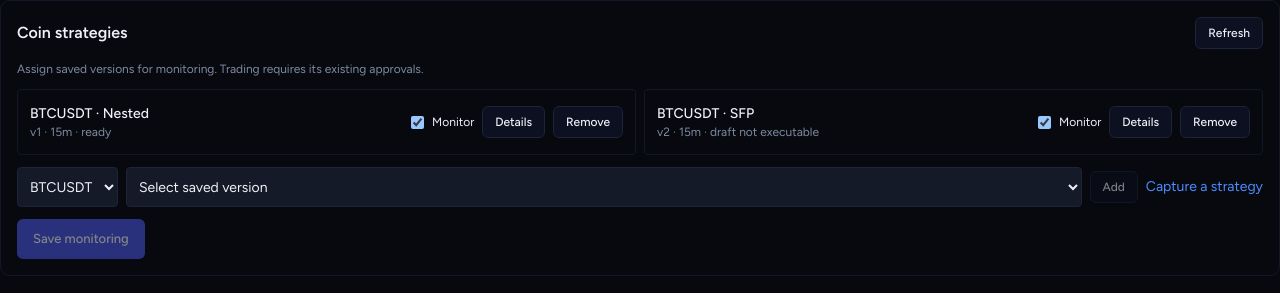
Test: independently toggles one assignment, retaining exact sibling version parameters and boundaries
This screenshot has width=1280, height=293.
Check: the text "BTCUSDT · Nested" is shown, box [30, 105, 149, 122]
Click the checkbox labelled "Monitor" in the row of "Nested" at (418, 122), box [411, 116, 424, 128]
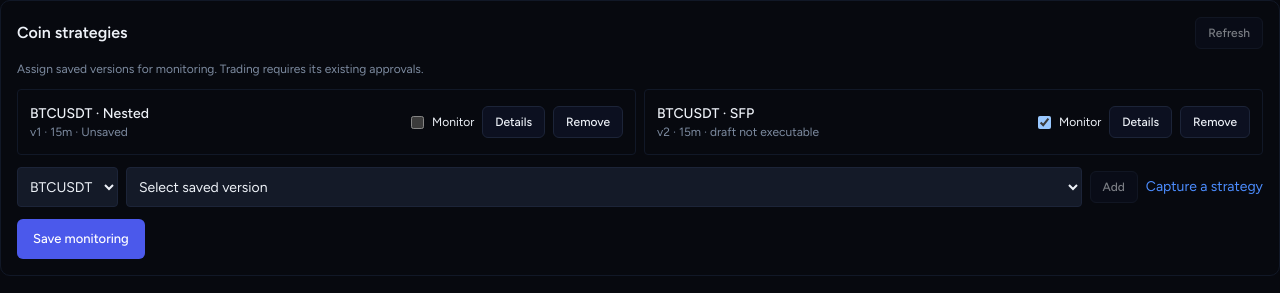
Click the button "Save monitoring" at (81, 239), box [17, 219, 145, 259]
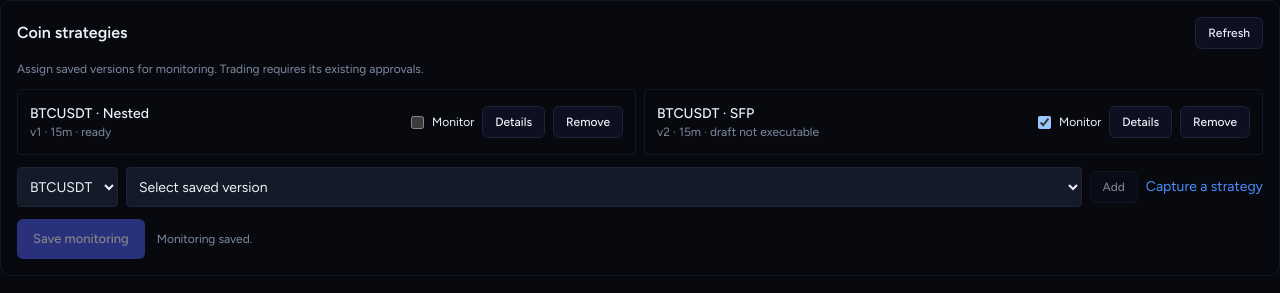
Check: the text "Monitoring saved." is shown, box [157, 231, 252, 247]
